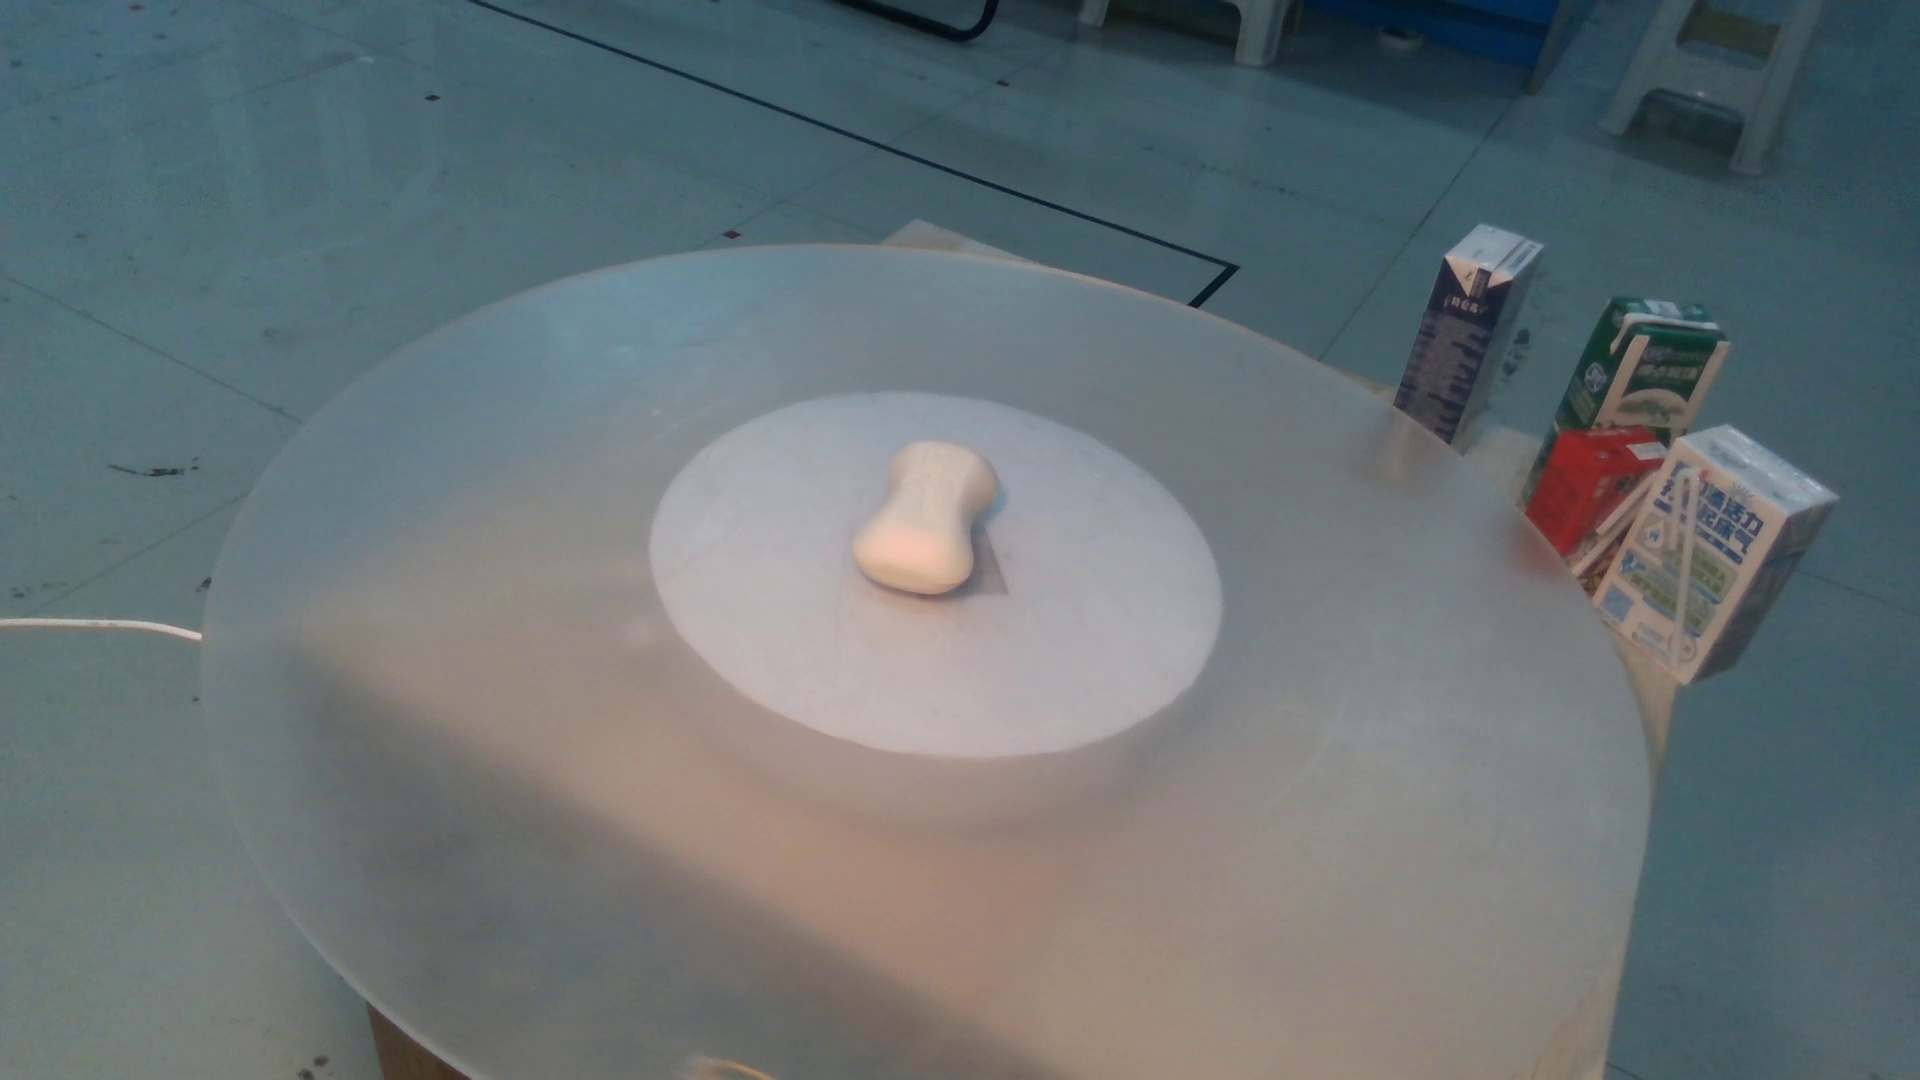CA003_1: (816, 426, 1069, 617)
